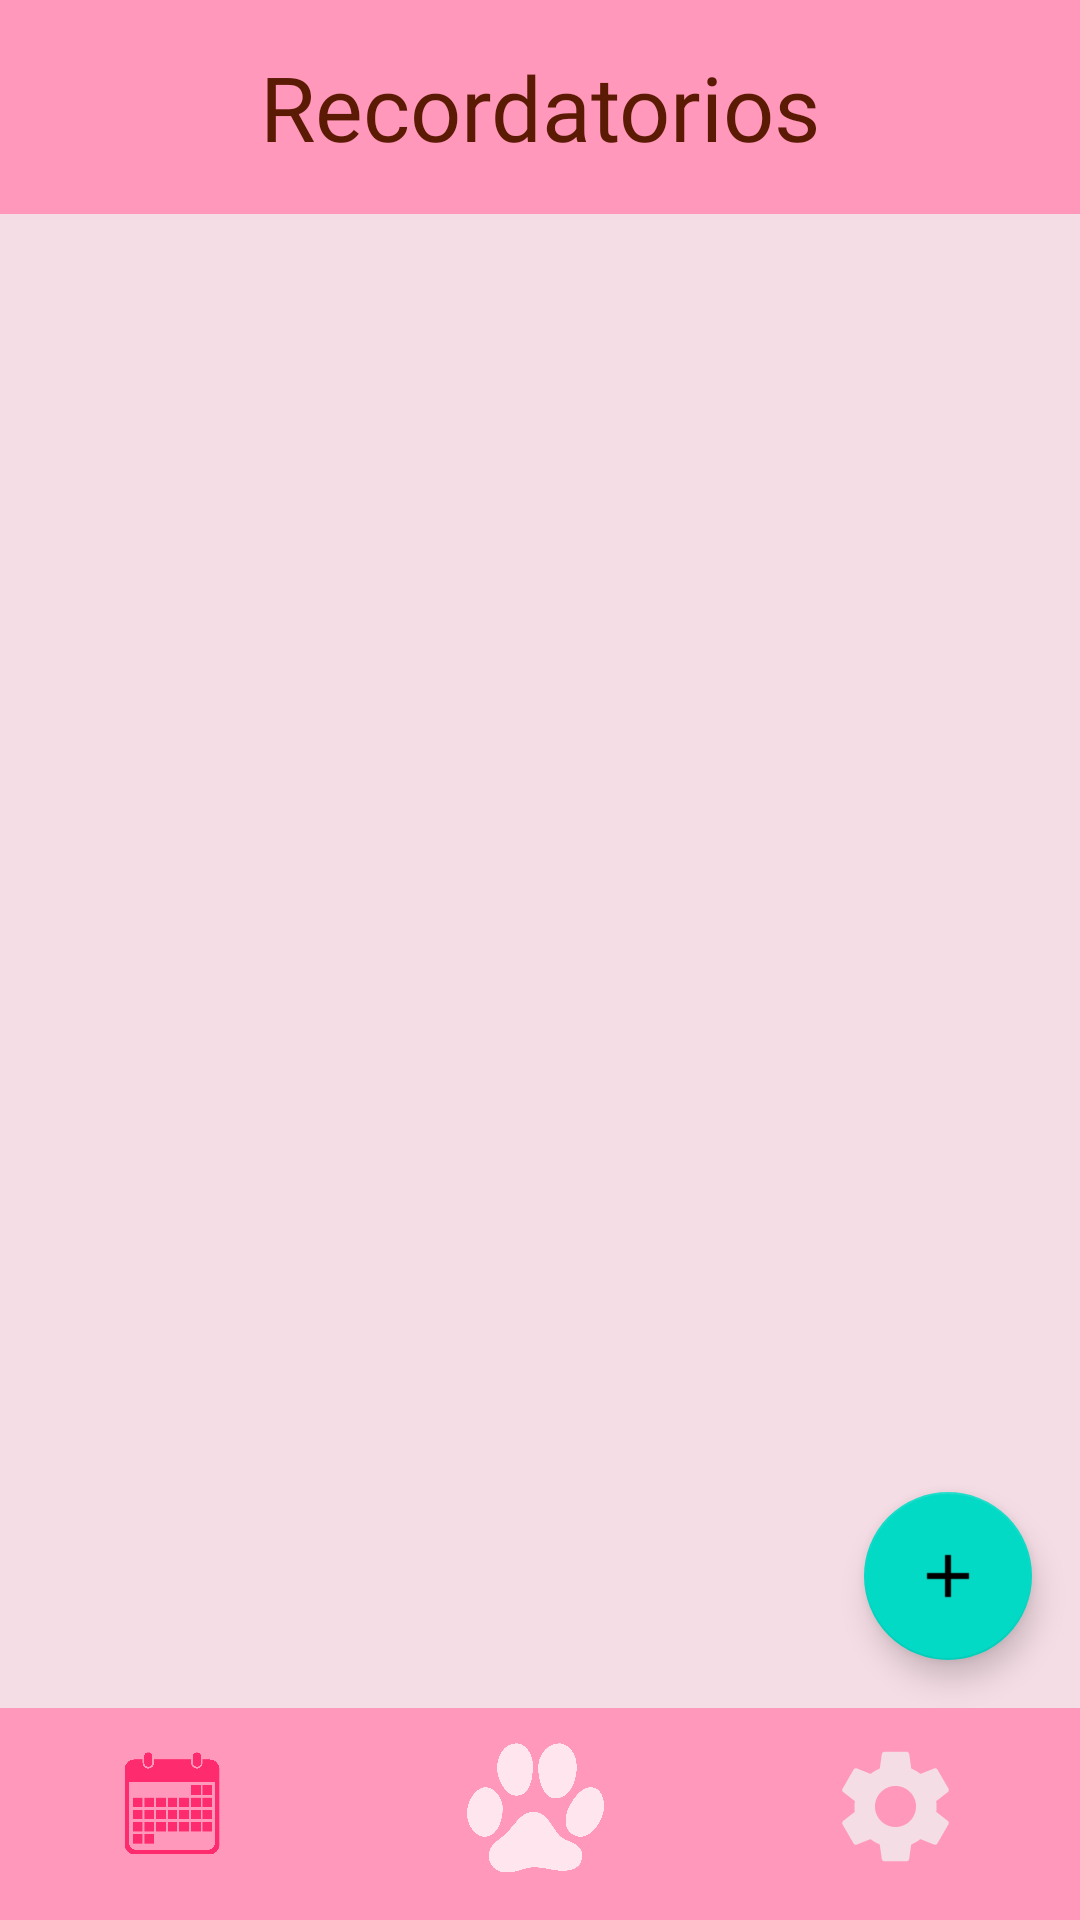

Named icons in this screenshot (1080 x 1920) and their centers, (x,y):
calendarselected: (172,1803)
plus: (948,1576)
settings: (895,1806)
